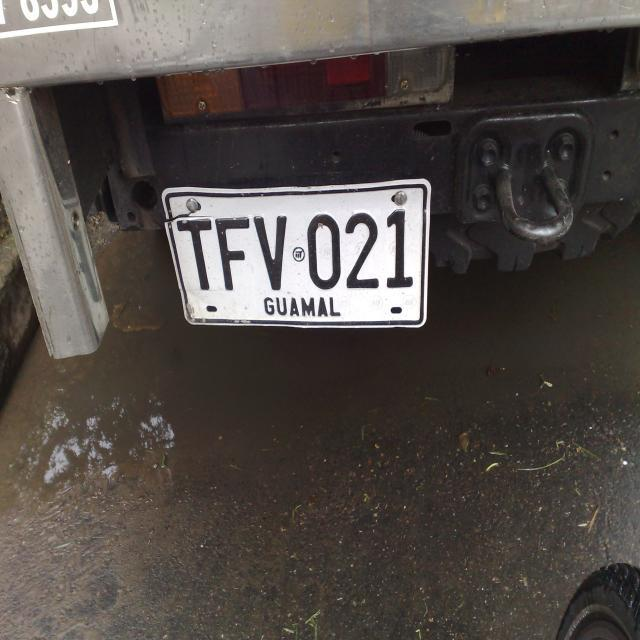placa: (158, 176, 432, 332)
